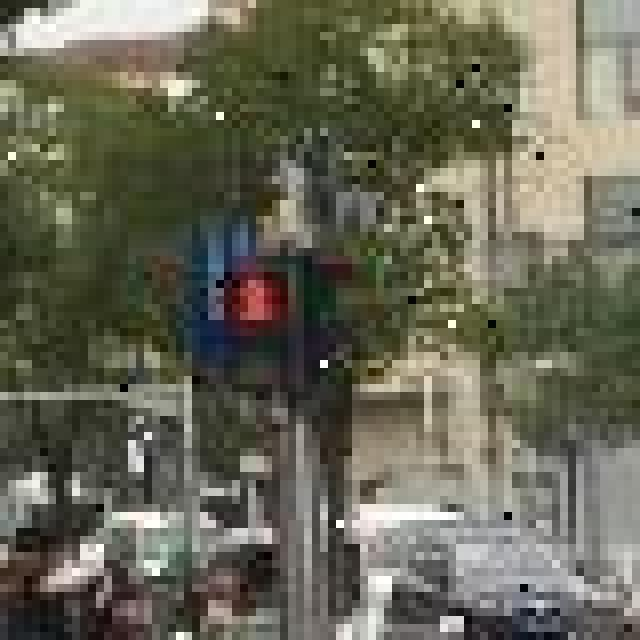redlight: (229, 240, 290, 392)
